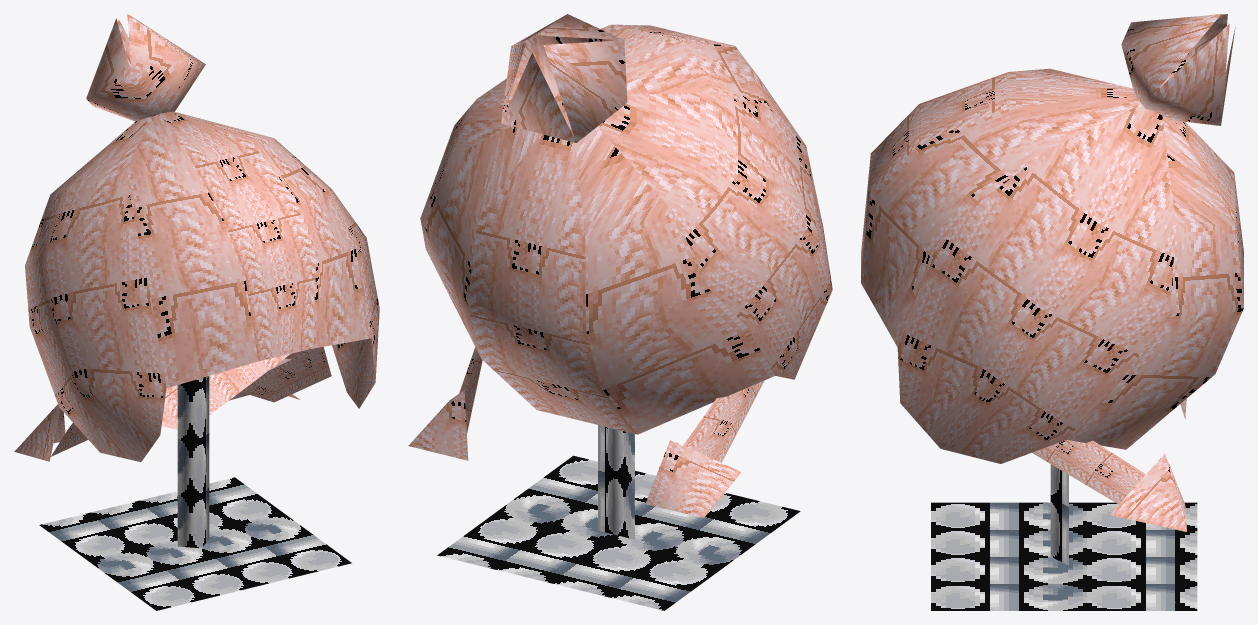
File: 2913head046_c.gltf
3 views of the same model, side by side, from view 1: azimuth 30°, elevation 25°; view 2: azimuth 150°, elevation 25°; view 3: azimuth 270°, elevation 25° (orthographic). The views are drawn at different scales.
Parts seen in each view (by area): view 1: 2913head046_c; view 2: 2913head046_c; view 3: 2913head046_c.
Part boxes in pixels (box(x1,y1,x2,y2)): 2913head046_c: box(14, 14, 379, 610); 2913head046_c: box(408, 14, 832, 610); 2913head046_c: box(861, 14, 1243, 610).
Size of the model in its own units: 0.7329 by 1.09 by 0.6902.
2 materials, 2 textured.
